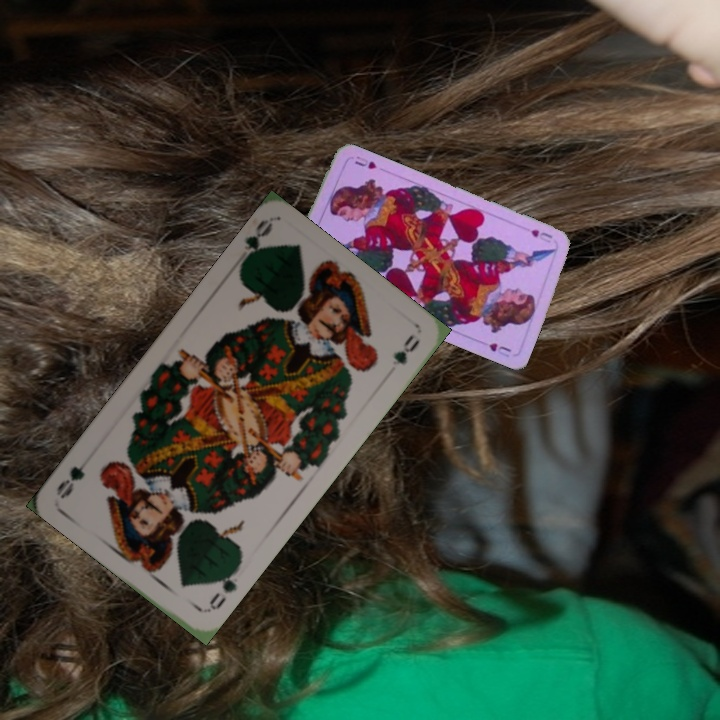GO: (235, 216, 275, 272), (200, 563, 242, 615)
HU: (526, 225, 555, 246)
